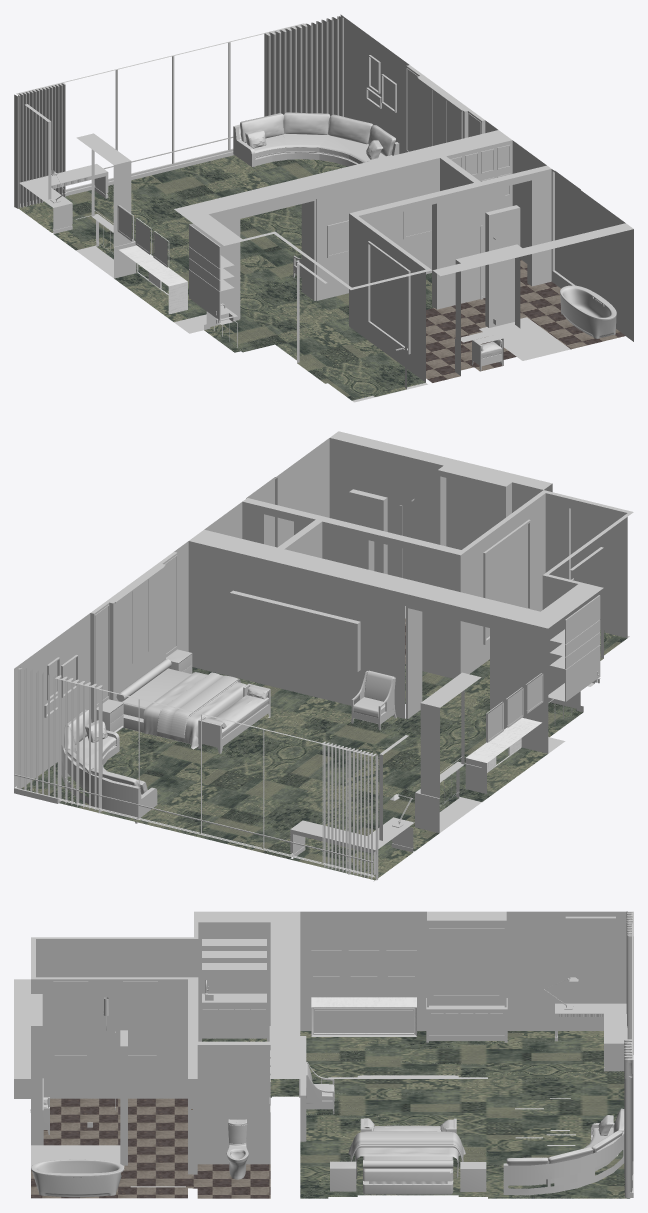
File: hotel_room_ege_carpets_patchwork_beige.glb
The picture shows the model from 3 angles, top to bottom: view 1: azimuth 30°, elevation 25°; view 2: azimuth 150°, elevation 25°; view 3: azimuth 270°, elevation 25°; orthographic projection. The views are drawn at different scales.
Parts seen in each view (by area): view 1: skfb_offset; view 2: skfb_offset; view 3: skfb_offset.
Part boxes in pixels (box(x1,y1,x2,y2)): skfb_offset: box(14, 14, 633, 402); skfb_offset: box(14, 431, 633, 881); skfb_offset: box(14, 911, 633, 1198).
Bounding box in the file's own units: 9.08 × 3.08 × 14.
Materials: 5 (4 with a texture image).
